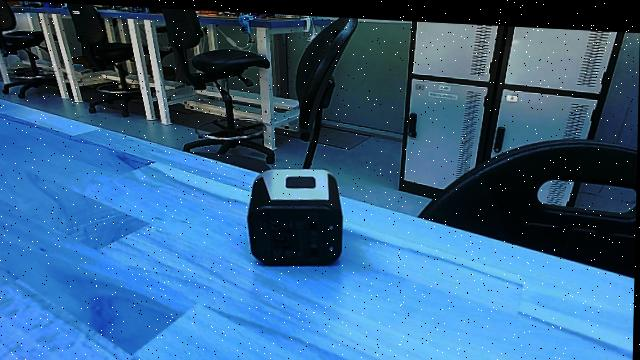adapter: (245, 158, 344, 270)
